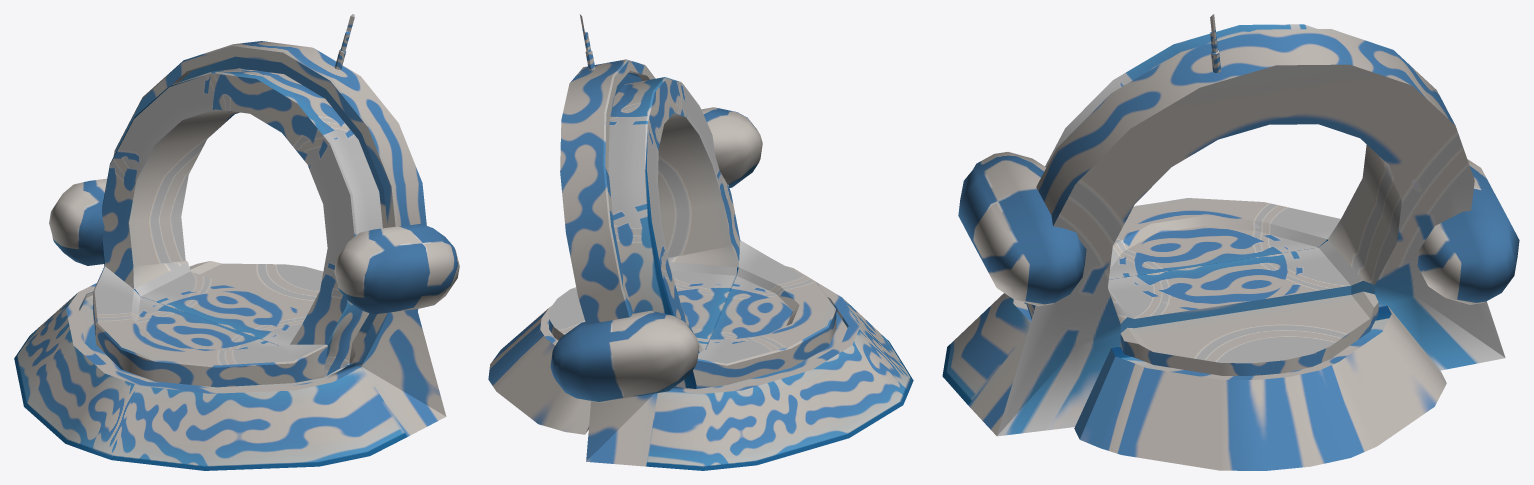
File: S_Portal.fbx
3 views of the same model, side by side, from view 1: azimuth 30°, elevation 25°; view 2: azimuth 150°, elevation 25°; view 3: azimuth 270°, elevation 25° (orthographic). The views are drawn at different scales.
Parts seen in each view (by area): view 1: S_Portal; view 2: S_Portal; view 3: S_Portal.
Boxes of the visible parts, x1,y1,x2,y2 form: S_Portal: [14, 14, 459, 470]; S_Portal: [488, 14, 913, 470]; S_Portal: [942, 14, 1519, 470].
Size of the model in its own units: 747 by 661 by 821.
Materials: 1 (1 with a texture image).
